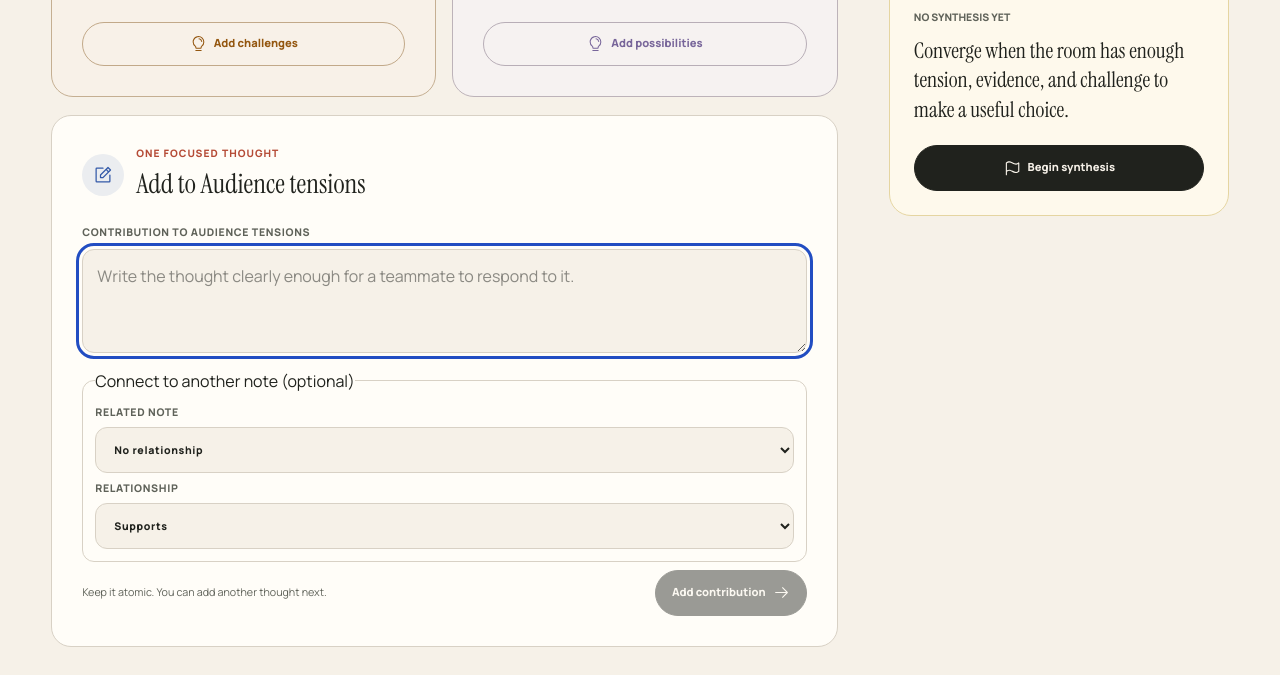
Thinking Room guided decision canvas › does not treat a source reference on a non-evidence note as evidence support
(page scrolled)
Click the button "Begin synthesis" at (1059, 167), box [914,144,1204,190]
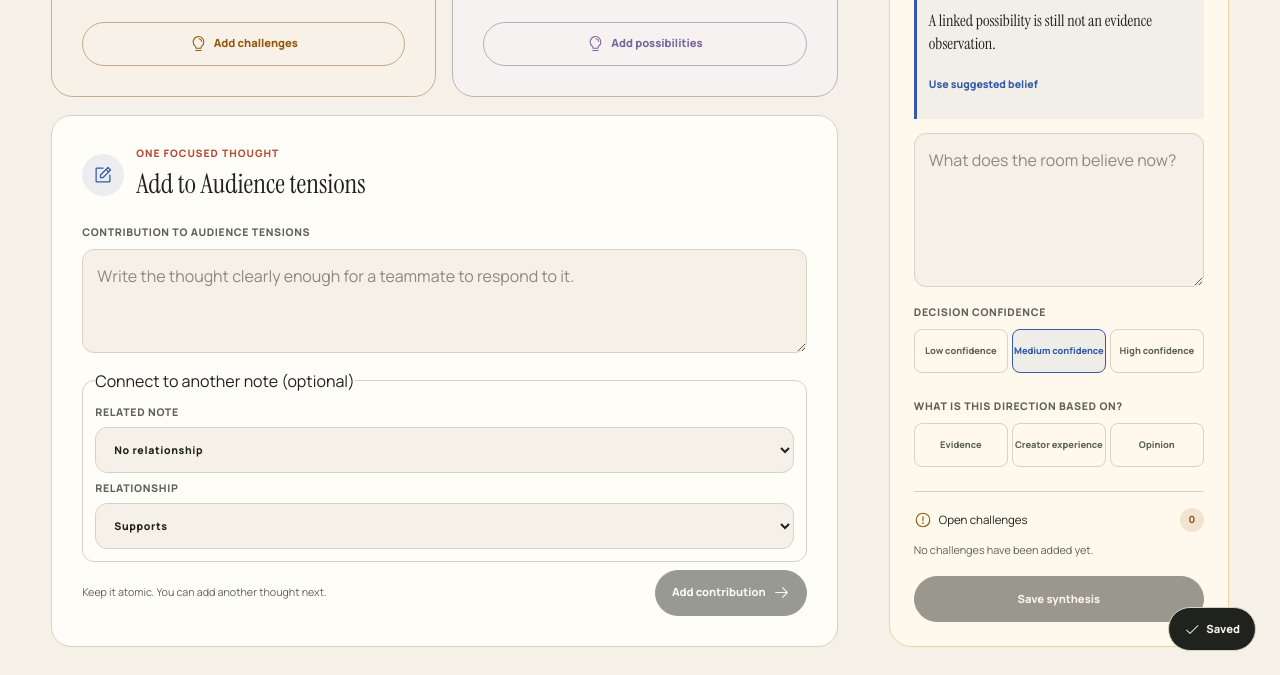
Type "This direction still needs an authoritative evidence note." into the text box labelled "Current shared belief" at (1059, 210), box [914,133,1204,287]
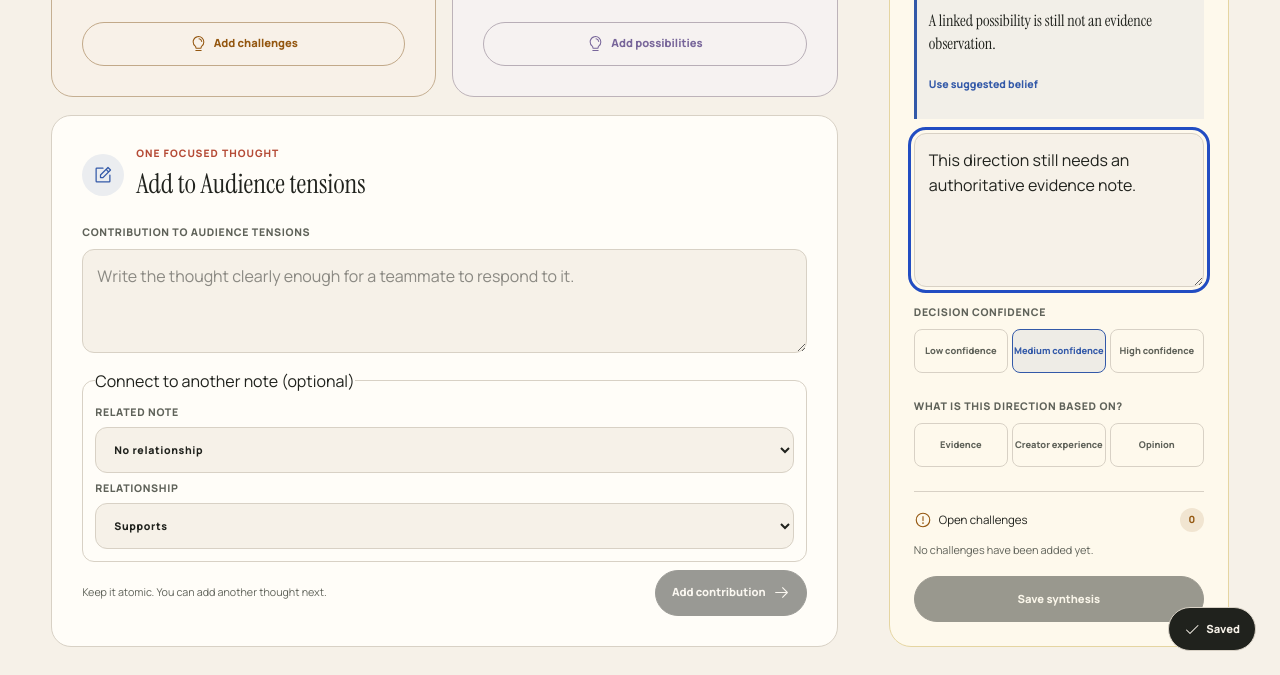
Click the radio button labelled "Evidence" at (961, 444), box [914,422,1008,466]
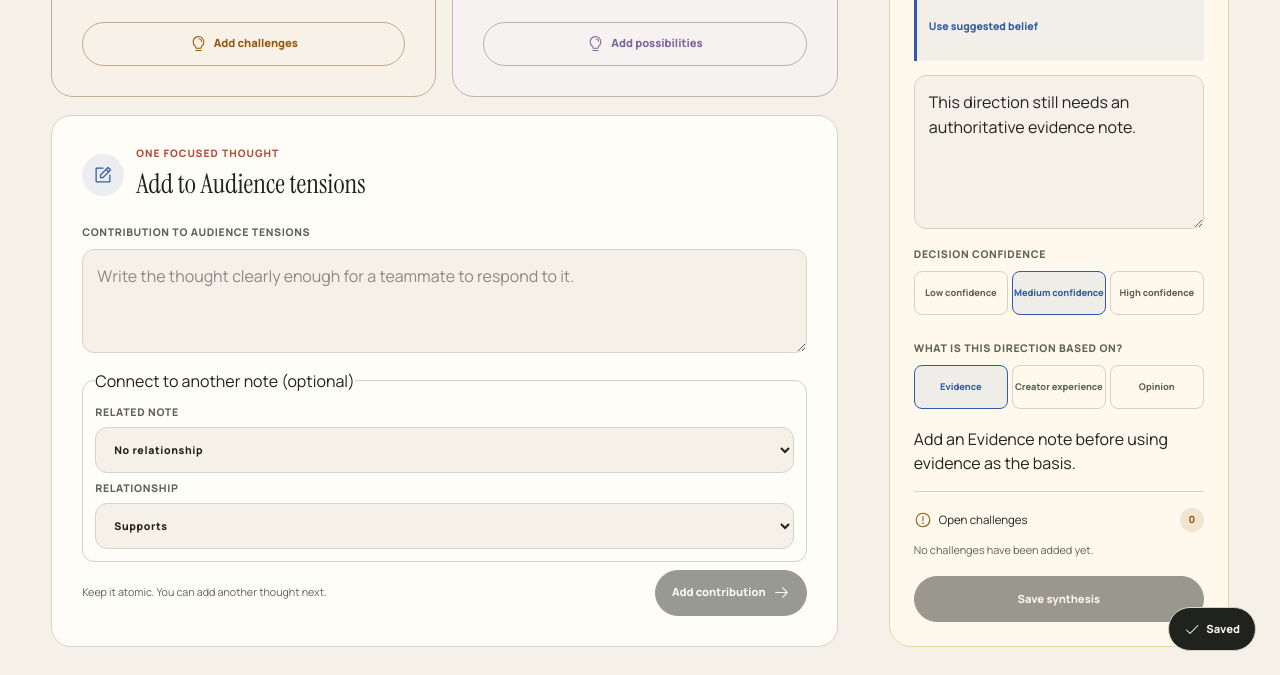
Expected: the button "Save synthesis" is disabled, [914,576,1204,622]
Expected: the message "Add an Evidence note before using evidence as the basis." is shown, [914,426,1204,474]
